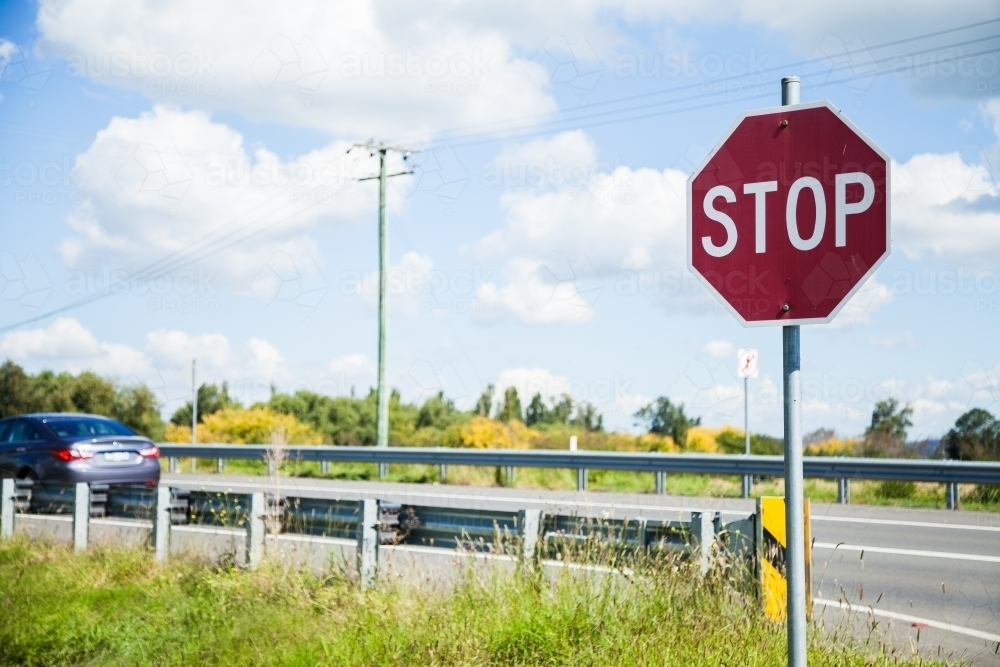stop: (682, 98, 895, 330)
